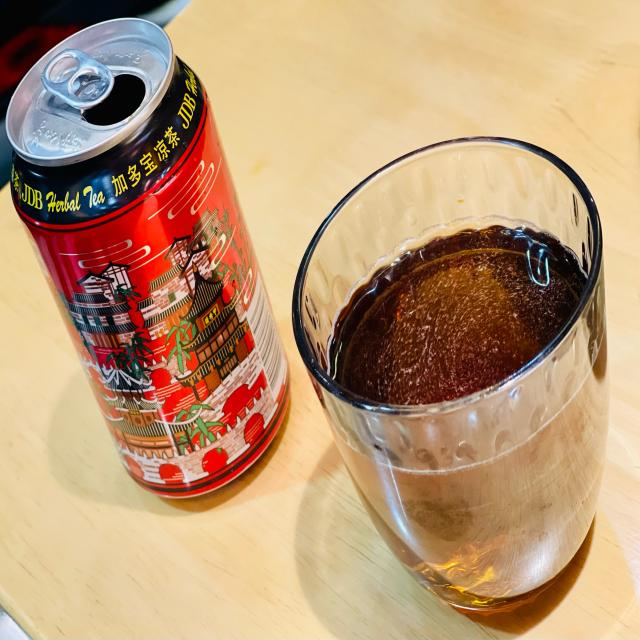can: (3, 14, 293, 518)
